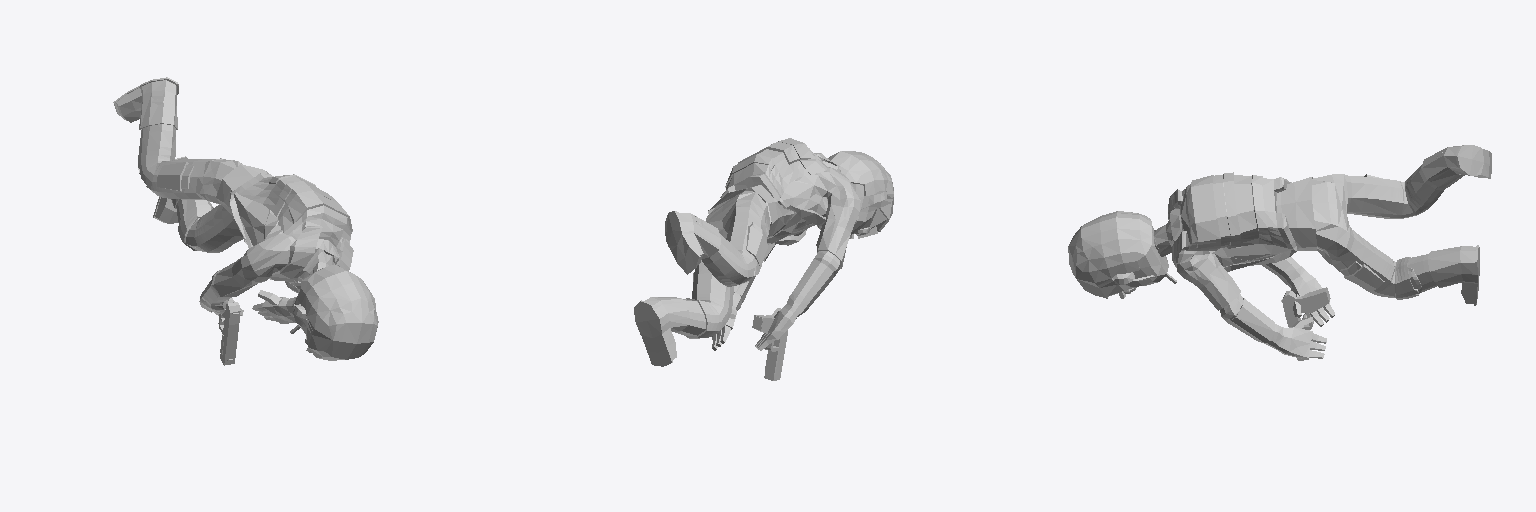
File: frame_0035.obj
The picture shows the model from 3 angles: view 1: azimuth 30°, elevation 25°; view 2: azimuth 150°, elevation 25°; view 3: azimuth 270°, elevation 25°; orthographic projection.
Parts seen in each view (by area): view 1: Body, Gun; view 2: Body, Gun; view 3: Body, Gun.
Boxes of the visible parts, <box> form: Body: <box>113,77,378,360</box>; Gun: <box>218,298,240,365</box>; Body: <box>634,138,893,366</box>; Gun: <box>752,308,787,380</box>; Body: <box>1068,145,1491,358</box>; Gun: <box>1281,287,1330,360</box>.
Bounding box in the file's own units: 1.26 × 2.31 × 3.98.